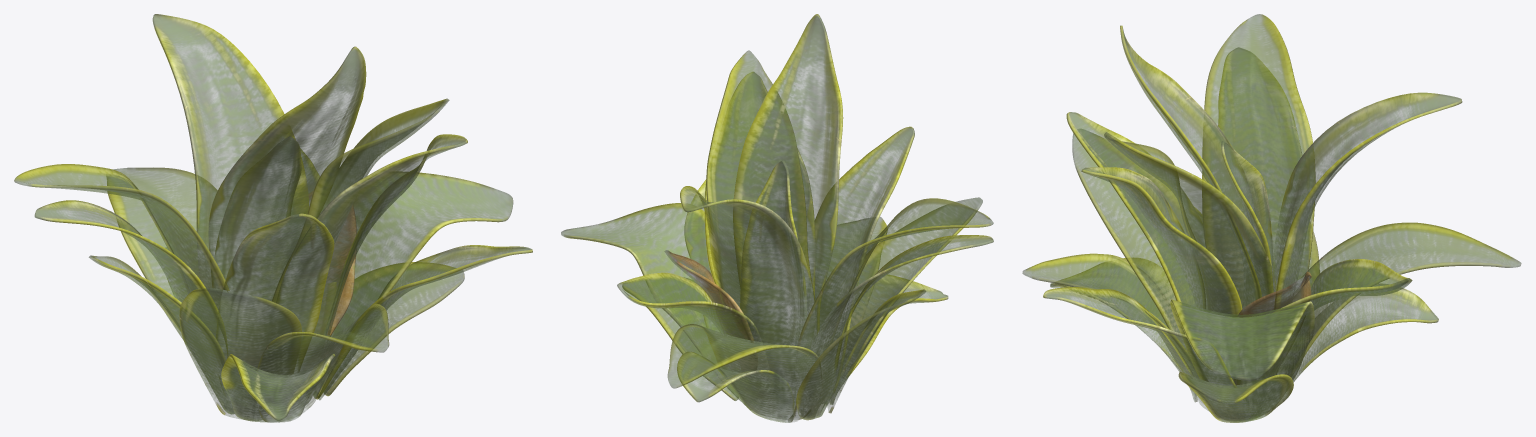
Rendered from preview.glb.
3 views of the same model, side by side, from view 1: azimuth 30°, elevation 25°; view 2: azimuth 150°, elevation 25°; view 3: azimuth 270°, elevation 25° (orthographic). The views are drawn at different scales.
Visible parts, largest first — view 1: Plant_Sansevieria_trifasciata_C_Leaf_glb; view 2: Plant_Sansevieria_trifasciata_C_Leaf_glb; view 3: Plant_Sansevieria_trifasciata_C_Leaf_glb.
Boxes of the visible parts, <box> form: Plant_Sansevieria_trifasciata_C_Leaf_glb: <box>14,14,532,422</box>; Plant_Sansevieria_trifasciata_C_Leaf_glb: <box>561,14,993,422</box>; Plant_Sansevieria_trifasciata_C_Leaf_glb: <box>1022,14,1521,422</box>.
Bounding box in the file's own units: 0.2075 × 0.1597 × 0.1861.
1 material, 1 textured.
